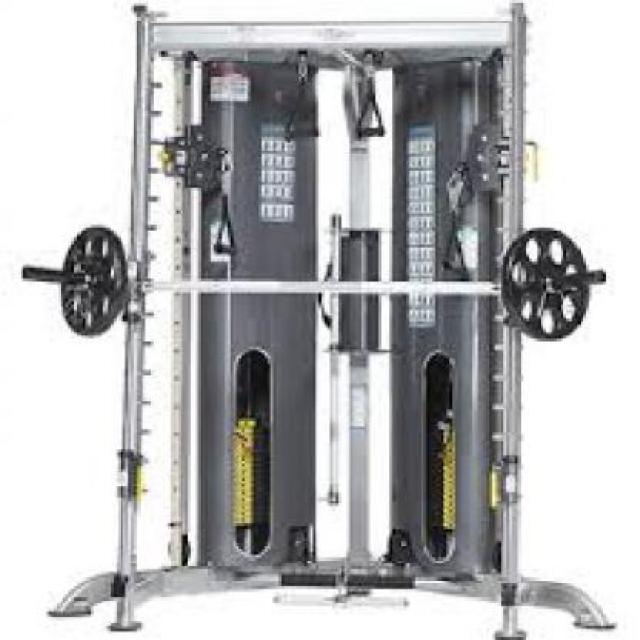smith machine: (23, 3, 619, 640)
